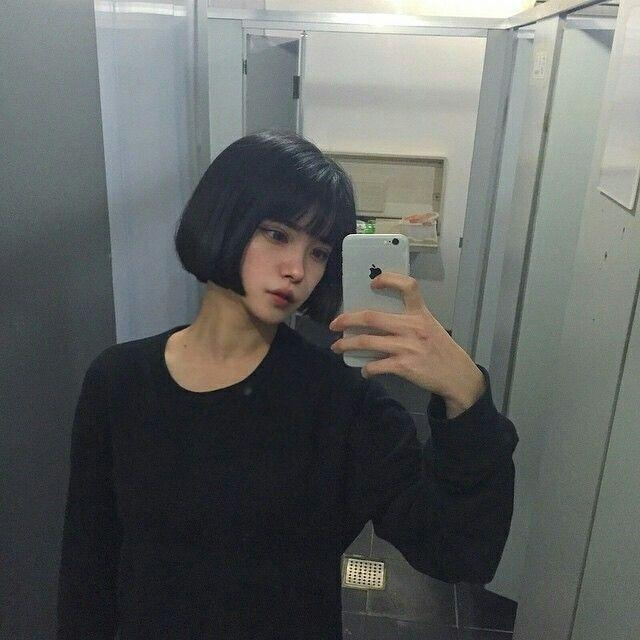phone: (342, 234, 409, 368)
